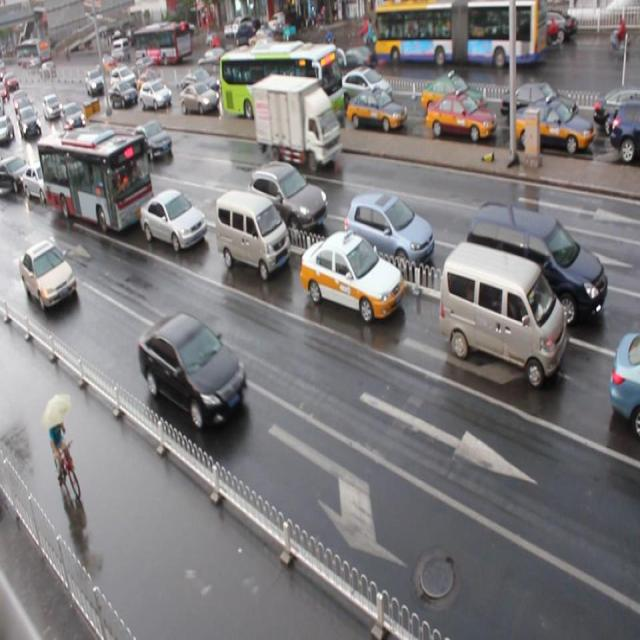bus: (252, 72, 342, 170)
car: (137, 312, 250, 431), (299, 228, 402, 322), (344, 194, 434, 276), (248, 160, 329, 238), (514, 99, 594, 158), (138, 187, 206, 252), (18, 239, 76, 312), (425, 92, 496, 143), (502, 82, 576, 128), (608, 331, 640, 435), (420, 76, 486, 121), (345, 86, 406, 134), (334, 66, 392, 111), (590, 92, 640, 133), (608, 99, 640, 160), (129, 121, 173, 165), (21, 158, 60, 203), (0, 153, 32, 192), (180, 83, 219, 114), (228, 69, 262, 103), (62, 132, 94, 167), (181, 69, 221, 96), (139, 80, 172, 112), (111, 81, 136, 110), (137, 68, 162, 92)
truck: (465, 198, 607, 332), (438, 240, 566, 388), (213, 187, 289, 280)
van: (37, 126, 154, 235), (216, 42, 339, 124)
